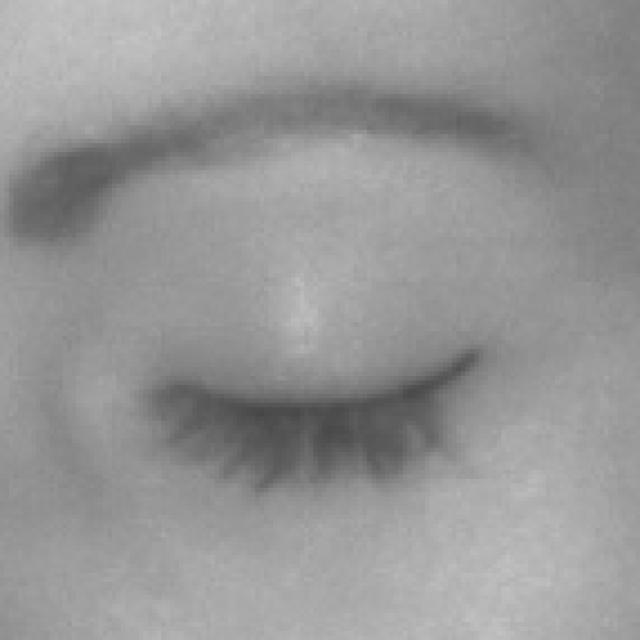close: (0, 55, 600, 551)
